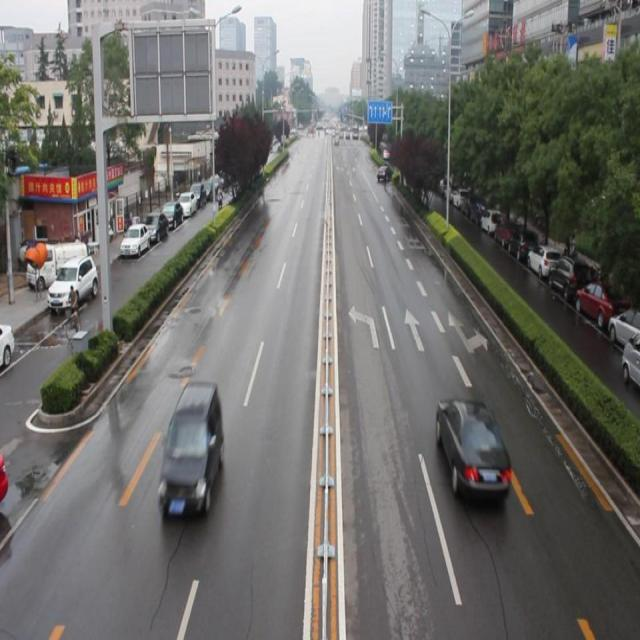car: (434, 398, 510, 504), (376, 163, 392, 182)
truck: (156, 382, 223, 520)
